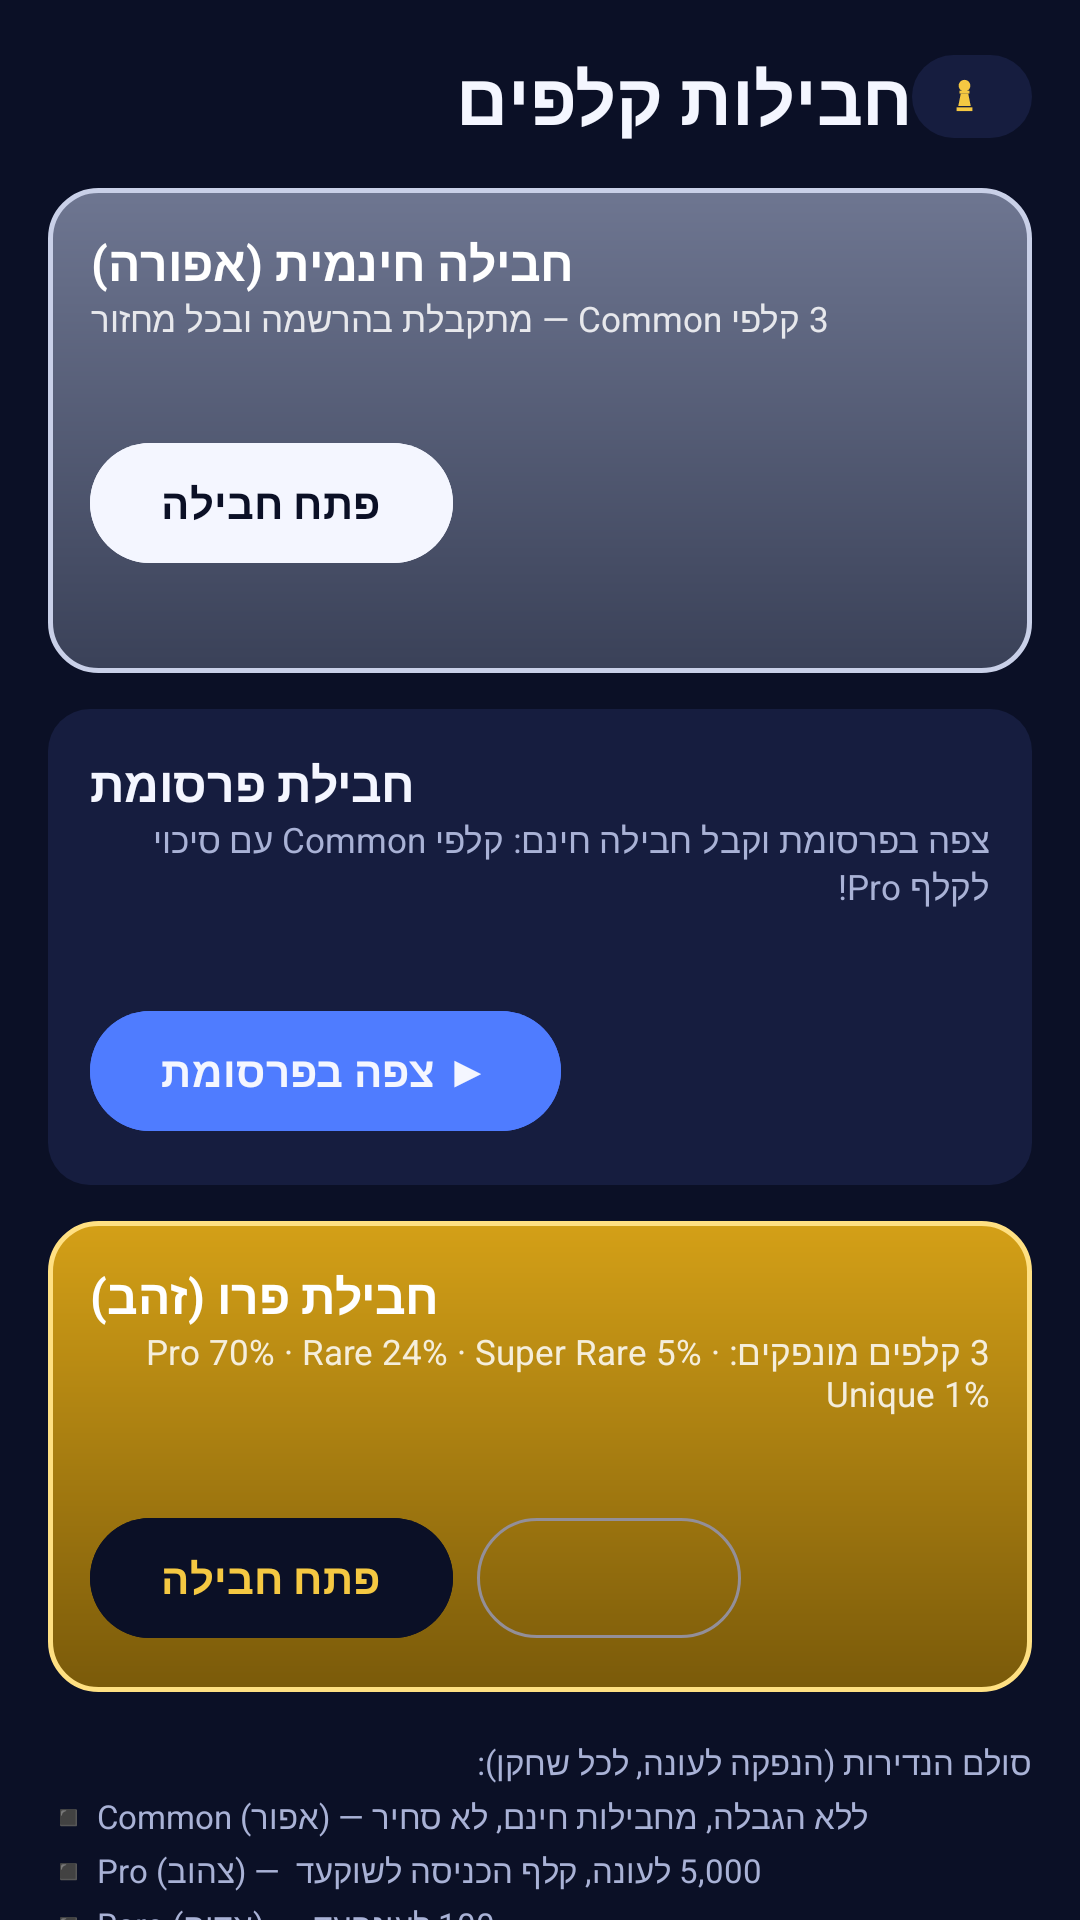

Point at icon controls on the screen. Image size 1080 × 1920, points as (x=x, y=y).
פיונים: (x=964, y=95)
